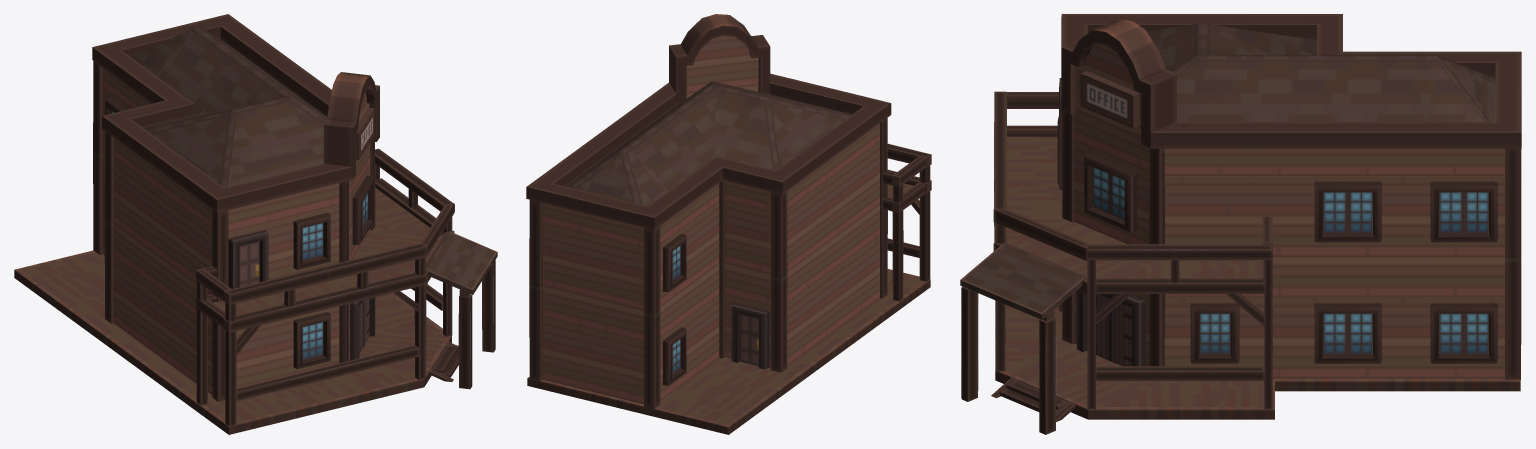
Rendered from house_v4_032.fbx.
The picture shows the model from 3 angles, left to right: view 1: azimuth 30°, elevation 25°; view 2: azimuth 150°, elevation 25°; view 3: azimuth 270°, elevation 25°; orthographic projection. The views are drawn at different scales.
Visible parts, largest first — view 1: house_v4_032; view 2: house_v4_032; view 3: house_v4_032.
Boxes of the visible parts, bbox=[...] form: house_v4_032: bbox=[14, 14, 497, 434]; house_v4_032: bbox=[526, 14, 931, 434]; house_v4_032: bbox=[960, 14, 1521, 434].
Size of the model in its own units: 912 by 842 by 1257.
